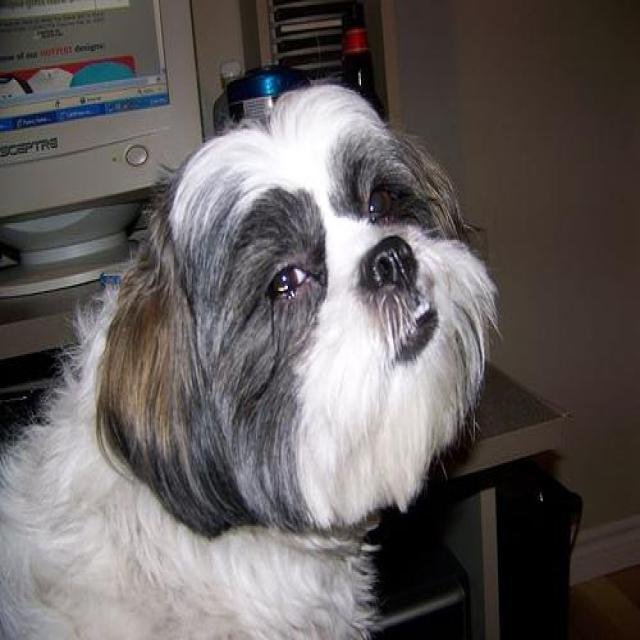shih_tzu: (5, 84, 501, 638)
